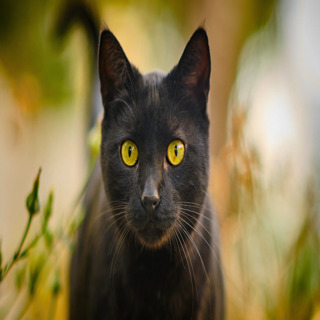gato: (64, 22, 242, 284)
